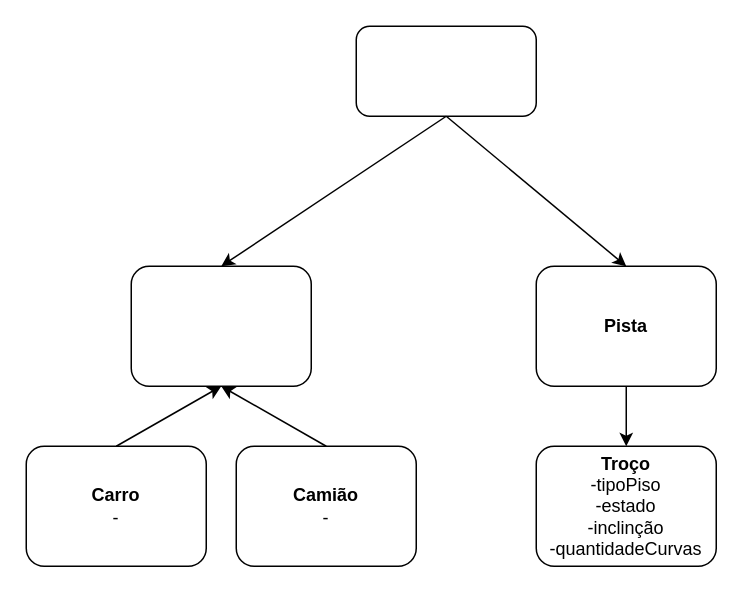
The diagram is 743 pixels wide and 593 high, and some of its shapes have lost their labels. Each missing label, with the box of its shape:
Corrida: (355, 25, 536, 116)
Veículo -suspensão -travões -pneus: (130, 265, 311, 386)
